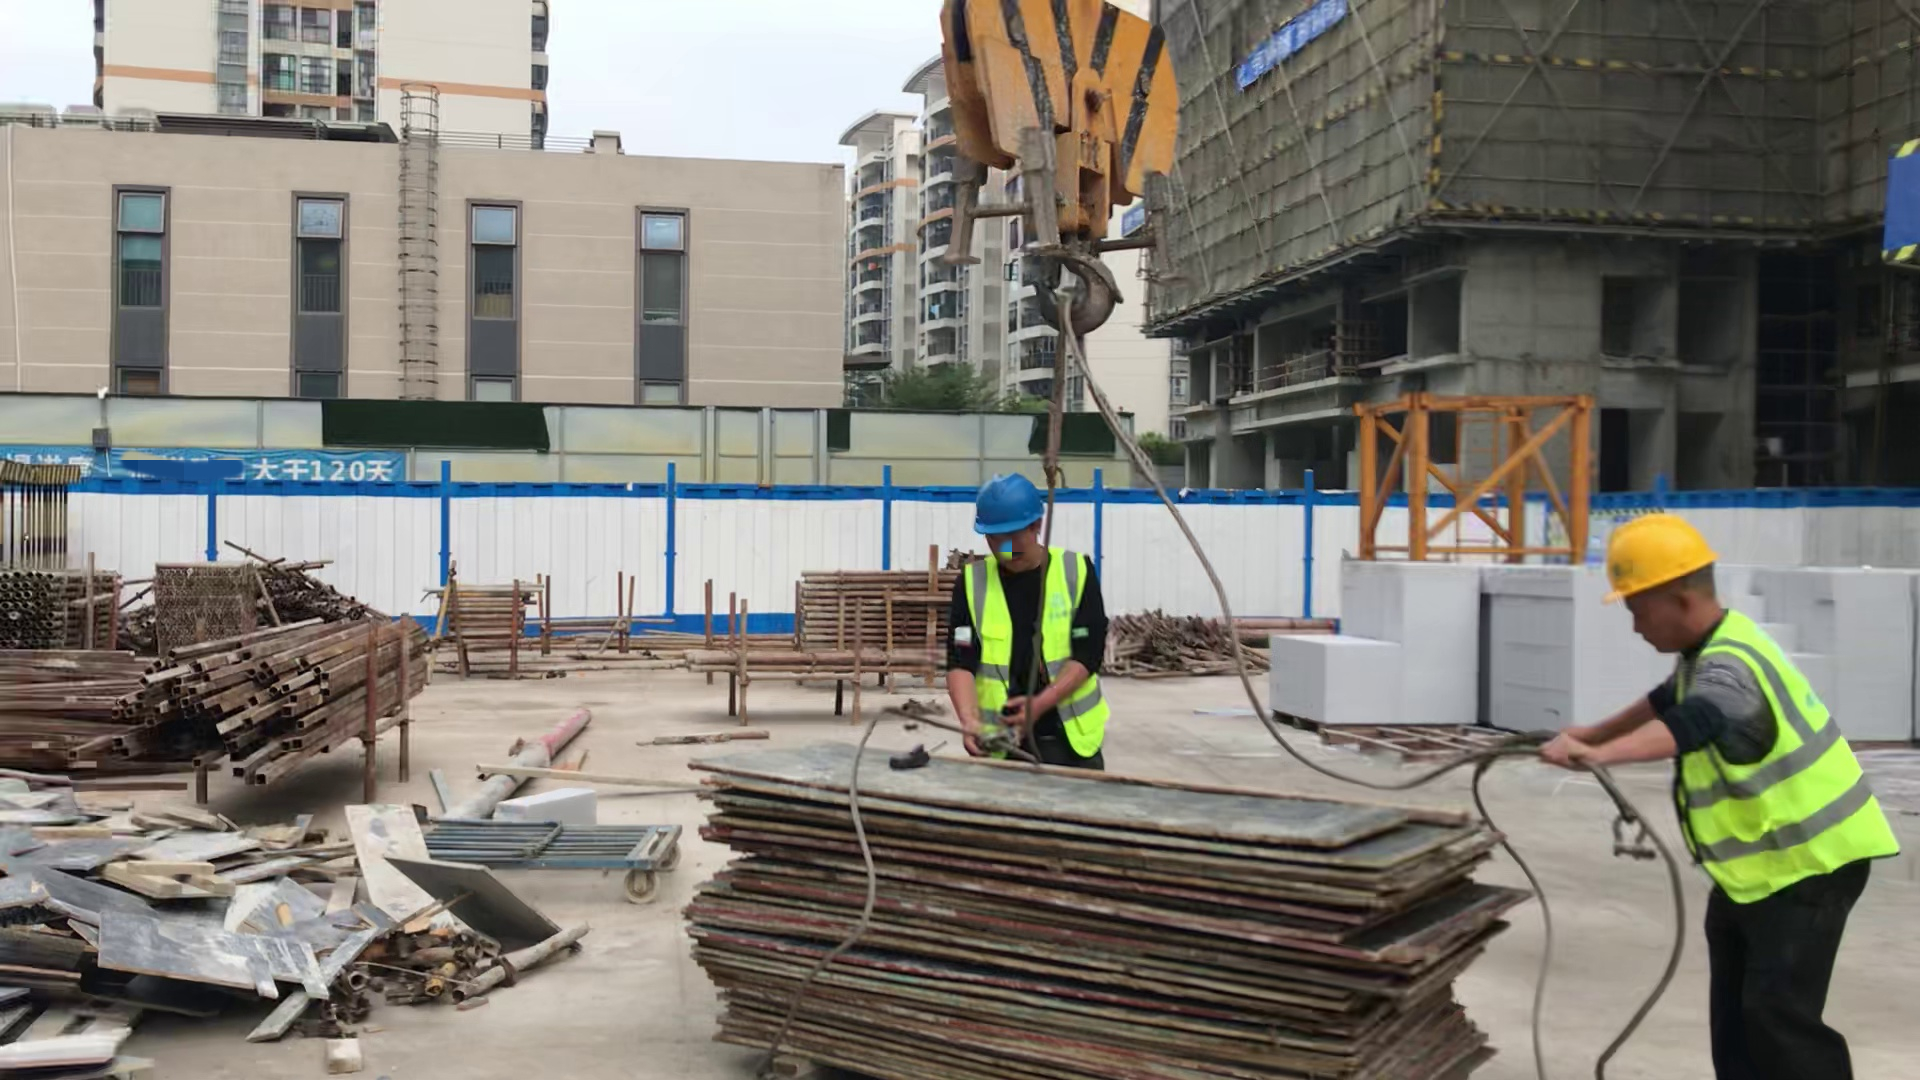board: (691, 731, 1531, 1080)
brick: (1269, 557, 1917, 757)
helmet: (1603, 519, 1709, 599), (967, 475, 1044, 531)
hook: (935, 14, 1183, 332)
person: (1533, 516, 1901, 1080), (948, 472, 1123, 765)
scaffold: (10, 563, 248, 652), (795, 564, 946, 648), (436, 572, 547, 649)
slogan: (1, 444, 403, 487), (1240, 1, 1341, 91)
vest: (1632, 609, 1898, 884), (965, 546, 1111, 756)
